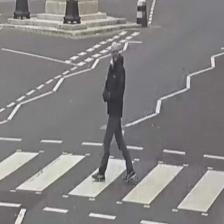person: (91, 42, 136, 182)
